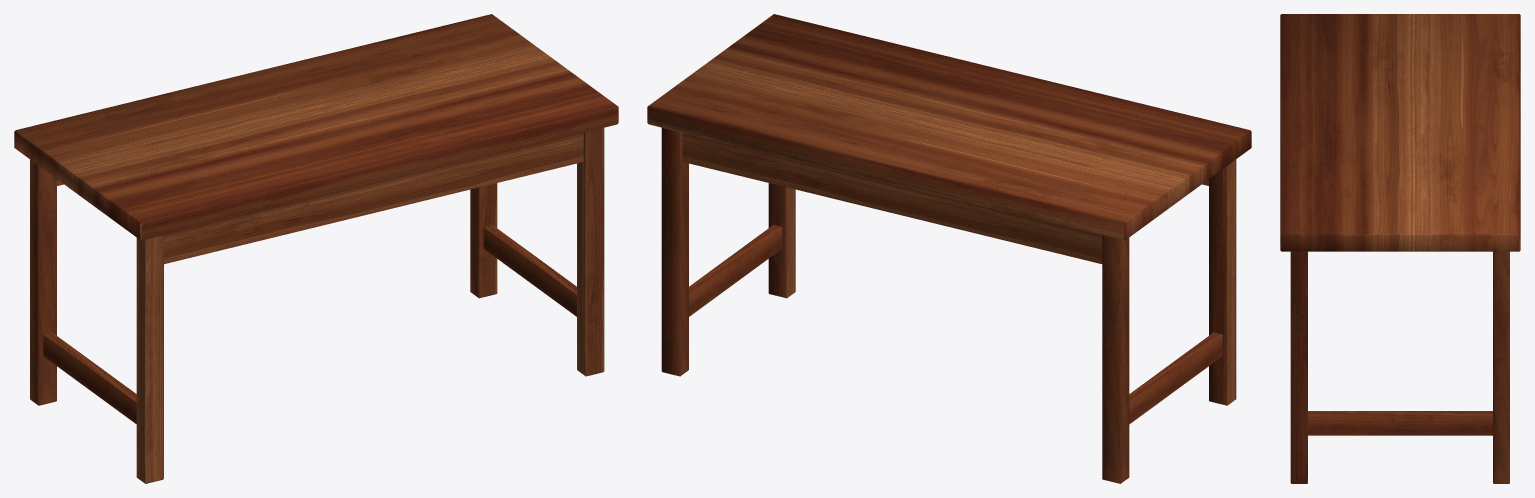
The model's file is WoodTable.FBX.
The picture shows the model from 3 angles, left to right: view 1: azimuth 30°, elevation 25°; view 2: azimuth 150°, elevation 25°; view 3: azimuth 270°, elevation 25°; orthographic projection. The views are drawn at different scales.
Visible parts, largest first — view 1: Desk; view 2: Desk; view 3: Desk.
Boxes of the visible parts, box(x1,y1,x2,y2) form: Desk: box(14, 14, 618, 483); Desk: box(647, 14, 1251, 483); Desk: box(1280, 14, 1520, 483).
Bounding box in the file's own units: 69.15 × 37.02 × 31.72.
